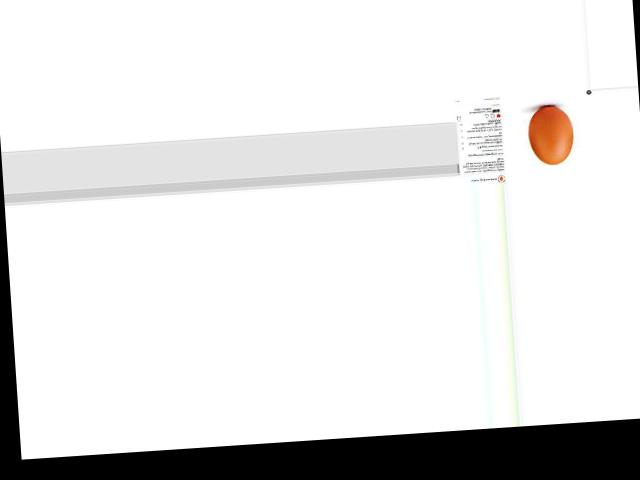egg: (526, 104, 574, 165)
